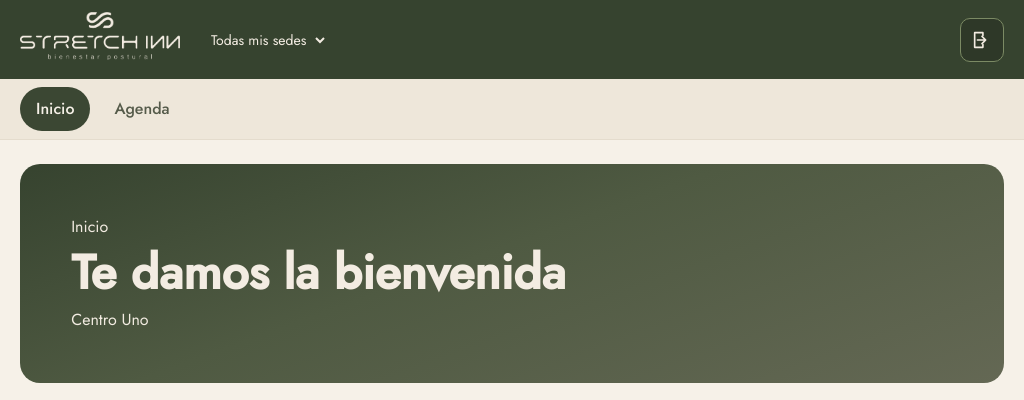
Scenario: con la vista de todas las sedes no aparecen las camas
This screenshot has width=1024, height=400.
Click the link "Agenda": (142, 109) [114,97,170,120]
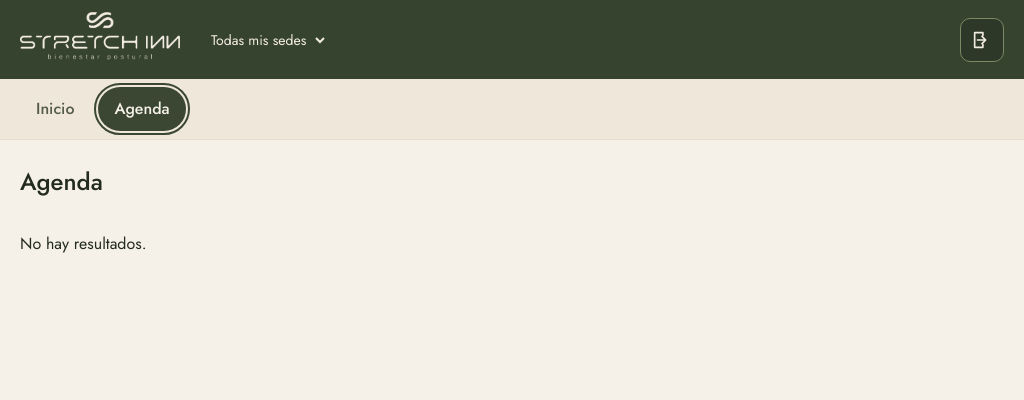
Now the text "No hay resultados." is shown, box [20,232,146,255]
